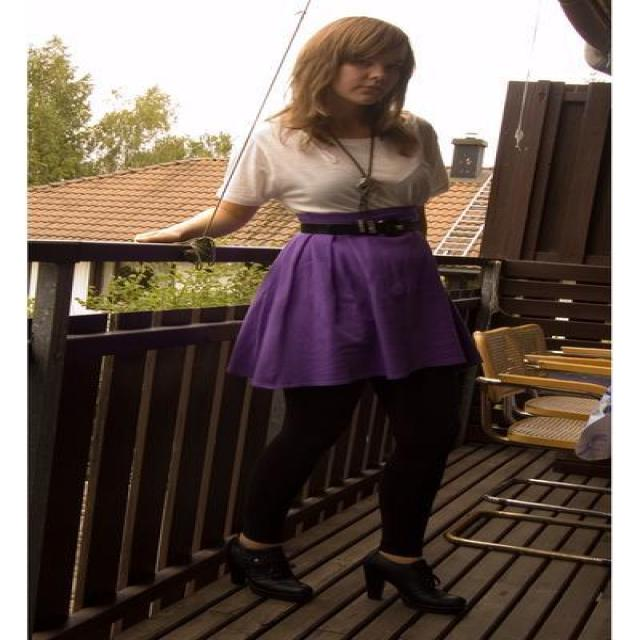dress: (213, 117, 478, 396)
pants: (230, 358, 500, 557)
shoe: (221, 532, 478, 626)
